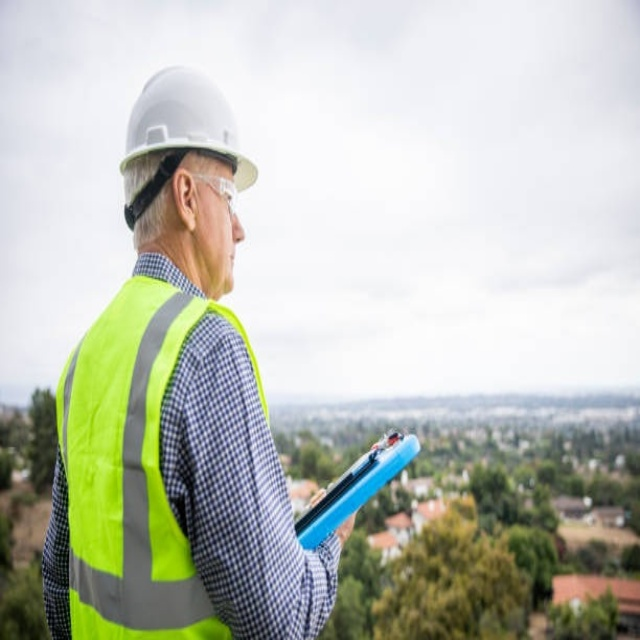Gafas: (182, 173, 239, 216)
Sin_mascara: (215, 242, 239, 289)
